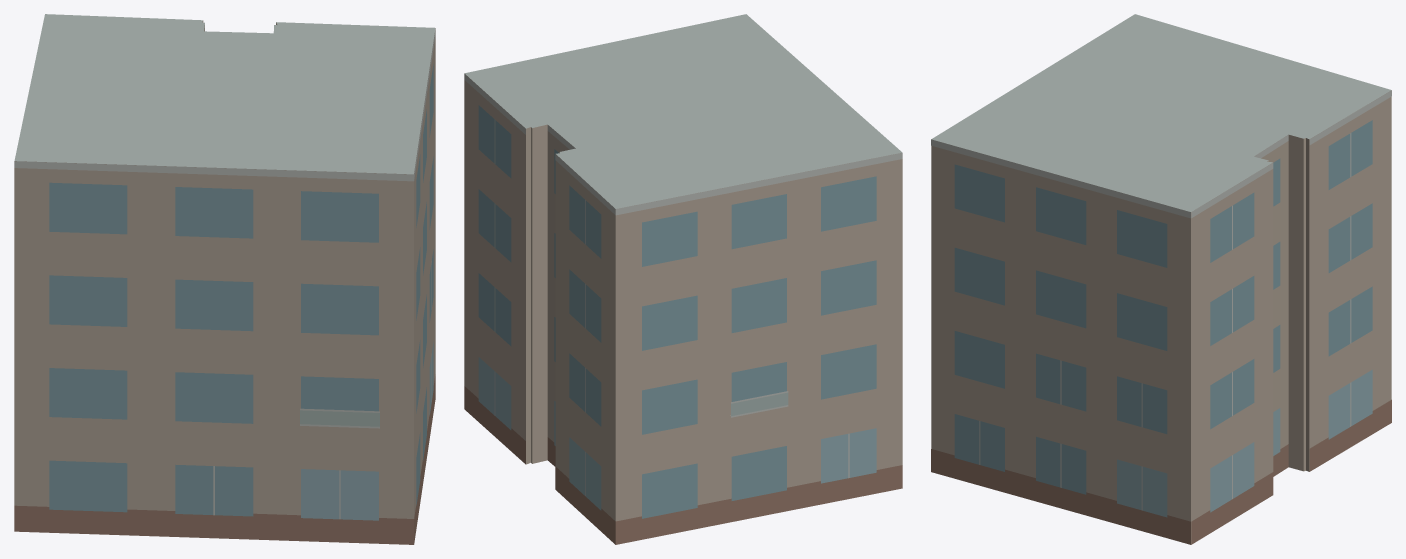
Rendered from survey-upis-32807955.glb.
The picture shows the model from 3 angles, left to right: view 1: azimuth 30°, elevation 25°; view 2: azimuth 150°, elevation 25°; view 3: azimuth 270°, elevation 25°; orthographic projection. The views are drawn at different scales.
Parts seen in each view (by area): view 1: survey-upis-32807955.tmp; view 2: survey-upis-32807955.tmp; view 3: survey-upis-32807955.tmp.
Boxes of the visible parts, left/top/right/bottom form: survey-upis-32807955.tmp: left=14, top=14, right=435, bottom=544; survey-upis-32807955.tmp: left=464, top=14, right=902, bottom=544; survey-upis-32807955.tmp: left=931, top=14, right=1391, bottom=544.
Size of the model in its own units: 16.49 by 12.9 by 16.2.
